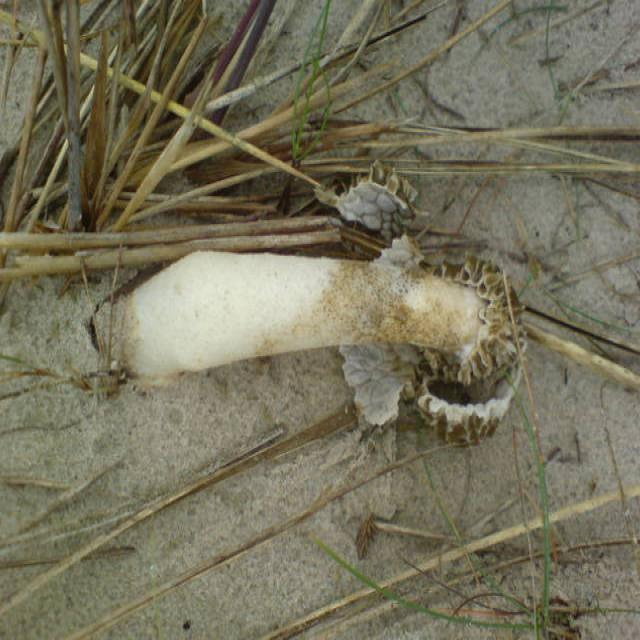Dictyophora indusiate: (86, 246, 527, 443)
